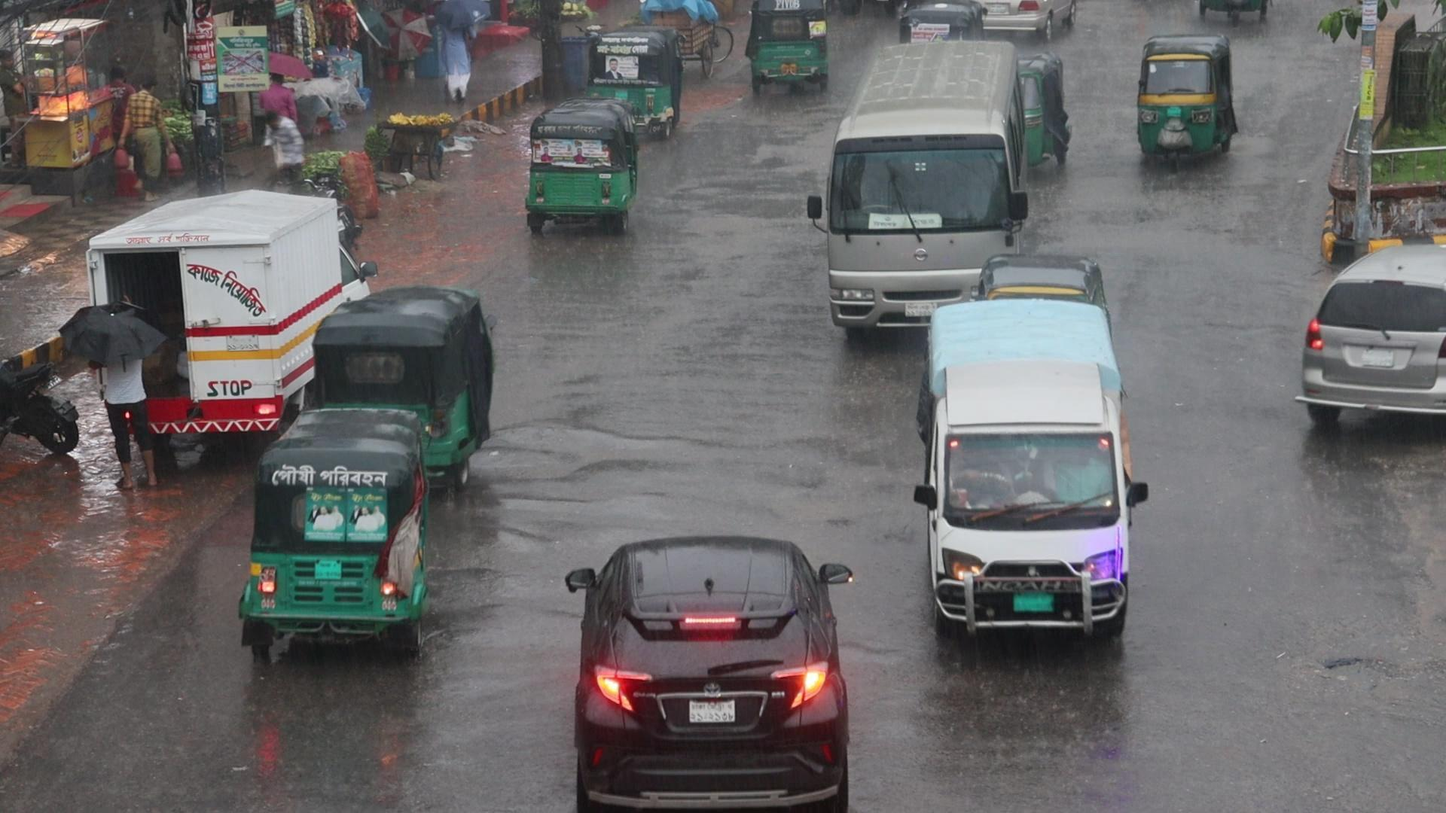Car: (904, 296, 1139, 664), (565, 531, 862, 813), (817, 37, 1024, 349), (1292, 234, 1446, 440)
